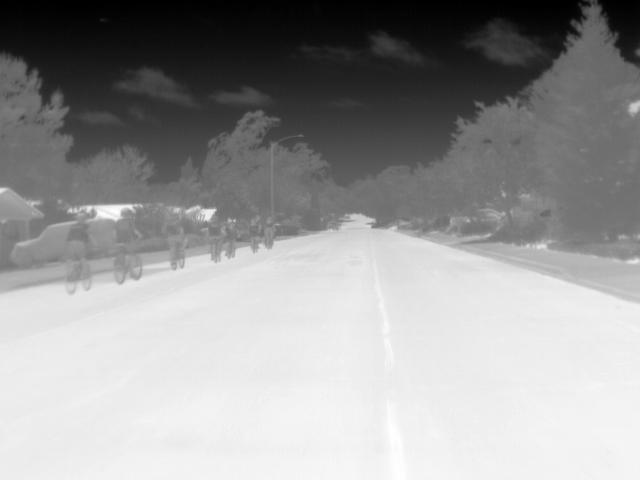car: (8, 221, 76, 272), (90, 217, 120, 257)
person: (63, 209, 98, 281), (110, 209, 147, 268), (163, 209, 193, 261), (204, 216, 225, 253), (247, 218, 263, 244), (227, 222, 240, 248), (263, 219, 277, 239)
